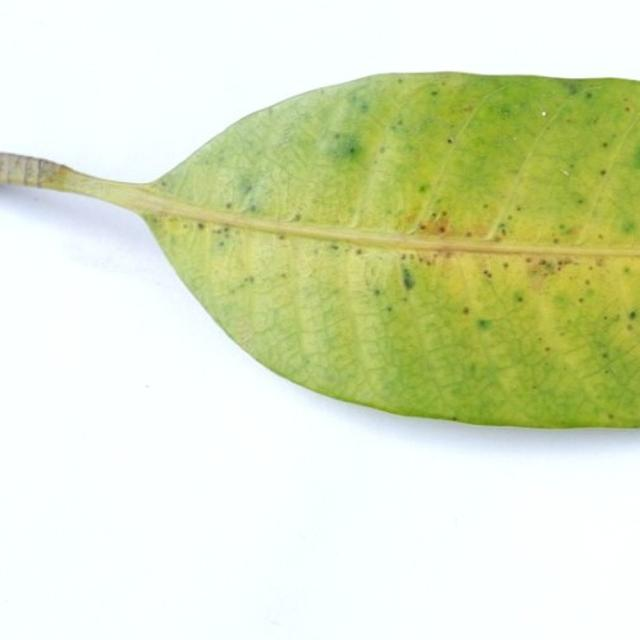Mango: (0, 74, 639, 428)
Powdery_Mildew: (592, 319, 628, 376), (525, 253, 580, 287), (332, 127, 369, 169), (407, 249, 457, 269), (345, 93, 373, 122), (203, 223, 237, 246), (233, 175, 256, 204), (401, 266, 416, 291), (563, 83, 584, 97), (621, 219, 637, 234), (633, 142, 640, 170), (391, 120, 405, 133), (476, 318, 491, 330), (498, 106, 513, 118), (497, 223, 507, 235), (418, 184, 428, 193), (329, 243, 340, 251), (627, 311, 636, 320), (293, 213, 302, 222), (245, 276, 255, 284), (515, 295, 524, 303), (196, 222, 205, 230), (277, 233, 286, 241), (225, 201, 233, 209), (558, 223, 566, 231), (385, 305, 393, 313), (355, 248, 363, 256), (462, 306, 469, 314), (431, 90, 438, 97), (373, 289, 380, 296), (599, 169, 606, 176), (334, 132, 341, 139)
